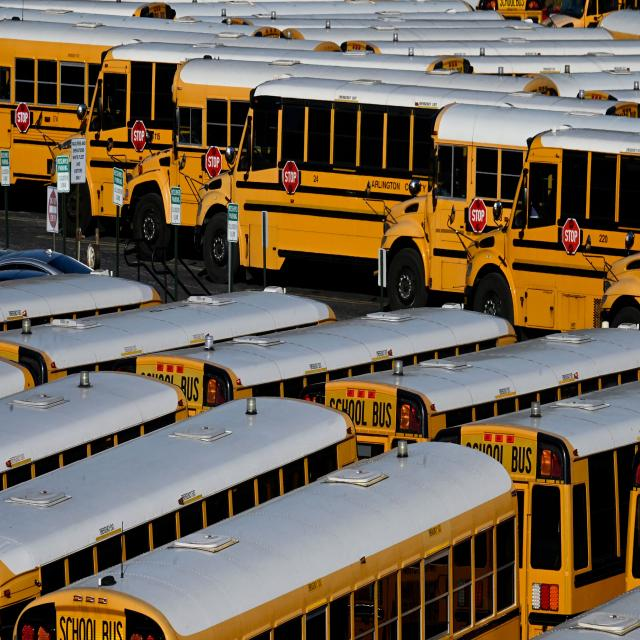bus: (386, 101, 640, 339), (195, 67, 381, 296), (118, 58, 241, 267)
